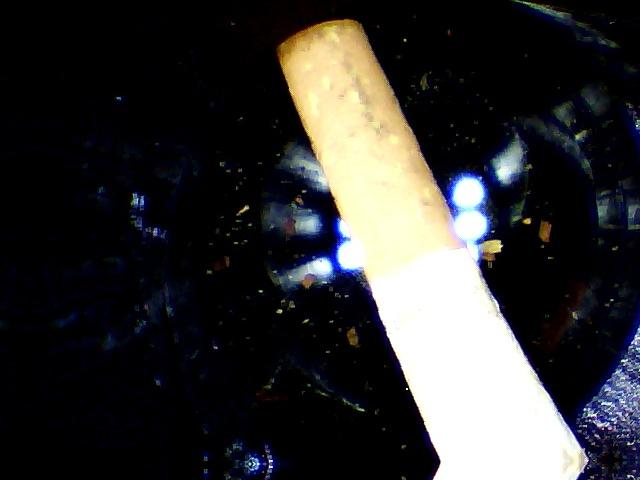megot: (258, 11, 598, 464)
